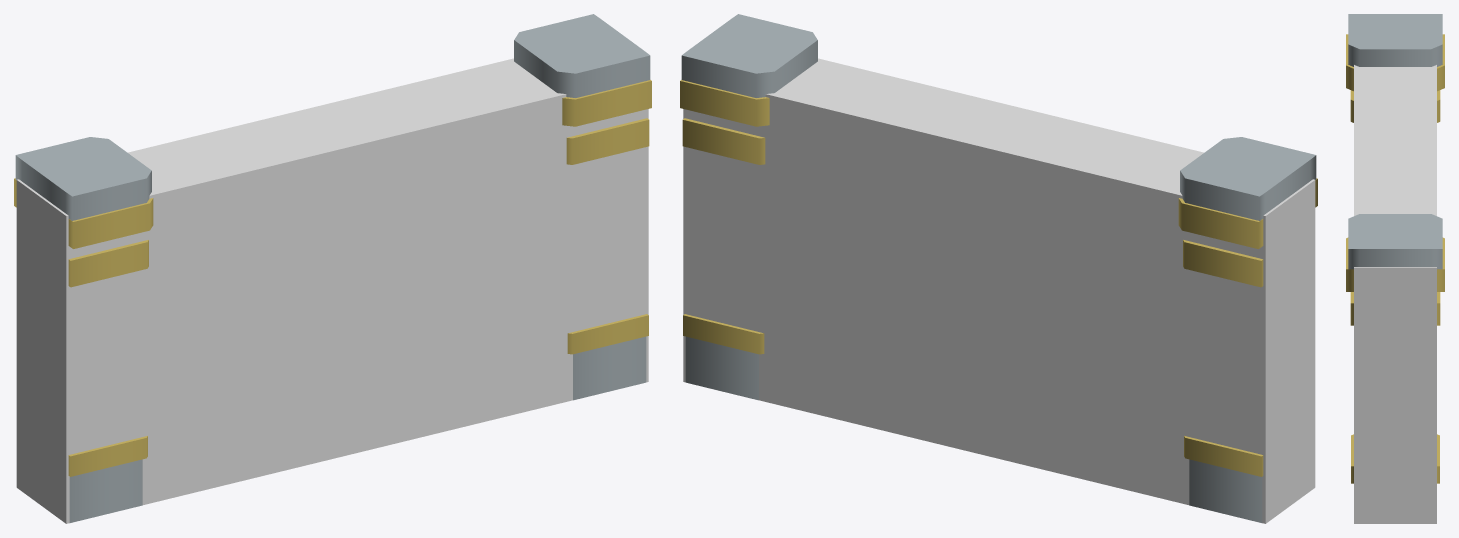
The model's file is gate.glb.
3 renders of one model, left to right at view 1: azimuth 30°, elevation 25°; view 2: azimuth 150°, elevation 25°; view 3: azimuth 270°, elevation 25°, orthographic. The views are drawn at different scales.
Visible parts, largest first — view 1: COL_BOX_DOOR, COL_BOX_PILLAR, upgrade_gate_l8_door, upgrade_gate_l7_pillar, upgrade_gate_l7_door, upgrade_gate_l8_pillar, upgrade_gate_l2_pillar, upgrade_gate_l2_door, upgrade_gate_l5_pillar, upgrade_gate_l5_door; view 2: COL_BOX_DOOR, COL_BOX_PILLAR, upgrade_gate_l8_door, upgrade_gate_l7_pillar, upgrade_gate_l7_door, upgrade_gate_l8_pillar, upgrade_gate_l2_pillar, upgrade_gate_l2_door, upgrade_gate_l5_pillar, upgrade_gate_l5_door; view 3: COL_BOX_PILLAR, COL_BOX_DOOR, upgrade_gate_l7_pillar, upgrade_gate_l7_door, upgrade_gate_l8_door, upgrade_gate_l8_pillar, upgrade_gate_l5_pillar, upgrade_gate_l5_door.
Boxes of the visible parts, bbox=[...] form: COL_BOX_DOOR: bbox=[16, 58, 572, 523]; COL_BOX_PILLAR: bbox=[569, 109, 648, 400]; upgrade_gate_l8_door: bbox=[14, 157, 153, 522]; upgrade_gate_l7_pillar: bbox=[514, 14, 650, 97]; upgrade_gate_l7_door: bbox=[15, 137, 151, 220]; upgrade_gate_l8_pillar: bbox=[514, 41, 651, 399]; upgrade_gate_l2_pillar: bbox=[573, 336, 646, 400]; upgrade_gate_l2_door: bbox=[69, 459, 142, 522]; upgrade_gate_l5_pillar: bbox=[566, 118, 649, 164]; upgrade_gate_l5_door: bbox=[68, 240, 148, 287]; COL_BOX_DOOR: bbox=[759, 58, 1315, 523]; COL_BOX_PILLAR: bbox=[683, 109, 762, 400]; upgrade_gate_l8_door: bbox=[1178, 156, 1317, 522]; upgrade_gate_l7_pillar: bbox=[681, 14, 817, 97]; upgrade_gate_l7_door: bbox=[1180, 137, 1316, 220]; upgrade_gate_l8_pillar: bbox=[680, 41, 817, 399]; upgrade_gate_l2_pillar: bbox=[685, 337, 758, 400]; upgrade_gate_l2_door: bbox=[1189, 459, 1262, 522]; upgrade_gate_l5_pillar: bbox=[682, 118, 765, 164]; upgrade_gate_l5_door: bbox=[1183, 240, 1263, 287]; COL_BOX_PILLAR: bbox=[1354, 267, 1436, 523]; COL_BOX_DOOR: bbox=[1354, 65, 1436, 215]; upgrade_gate_l7_pillar: bbox=[1348, 214, 1442, 269]; upgrade_gate_l7_door: bbox=[1348, 14, 1442, 66]; upgrade_gate_l8_door: bbox=[1346, 34, 1444, 91]; upgrade_gate_l8_pillar: bbox=[1346, 237, 1444, 483]; upgrade_gate_l5_pillar: bbox=[1350, 292, 1440, 325]; upgrade_gate_l5_door: bbox=[1350, 90, 1440, 122].
Size of the model in its own units: 1.01 by 0.545 by 0.178.
